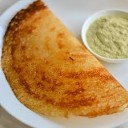dosa: (6, 2, 126, 118)
